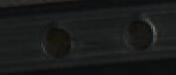joints: (121, 13, 158, 53), (40, 21, 75, 62)
